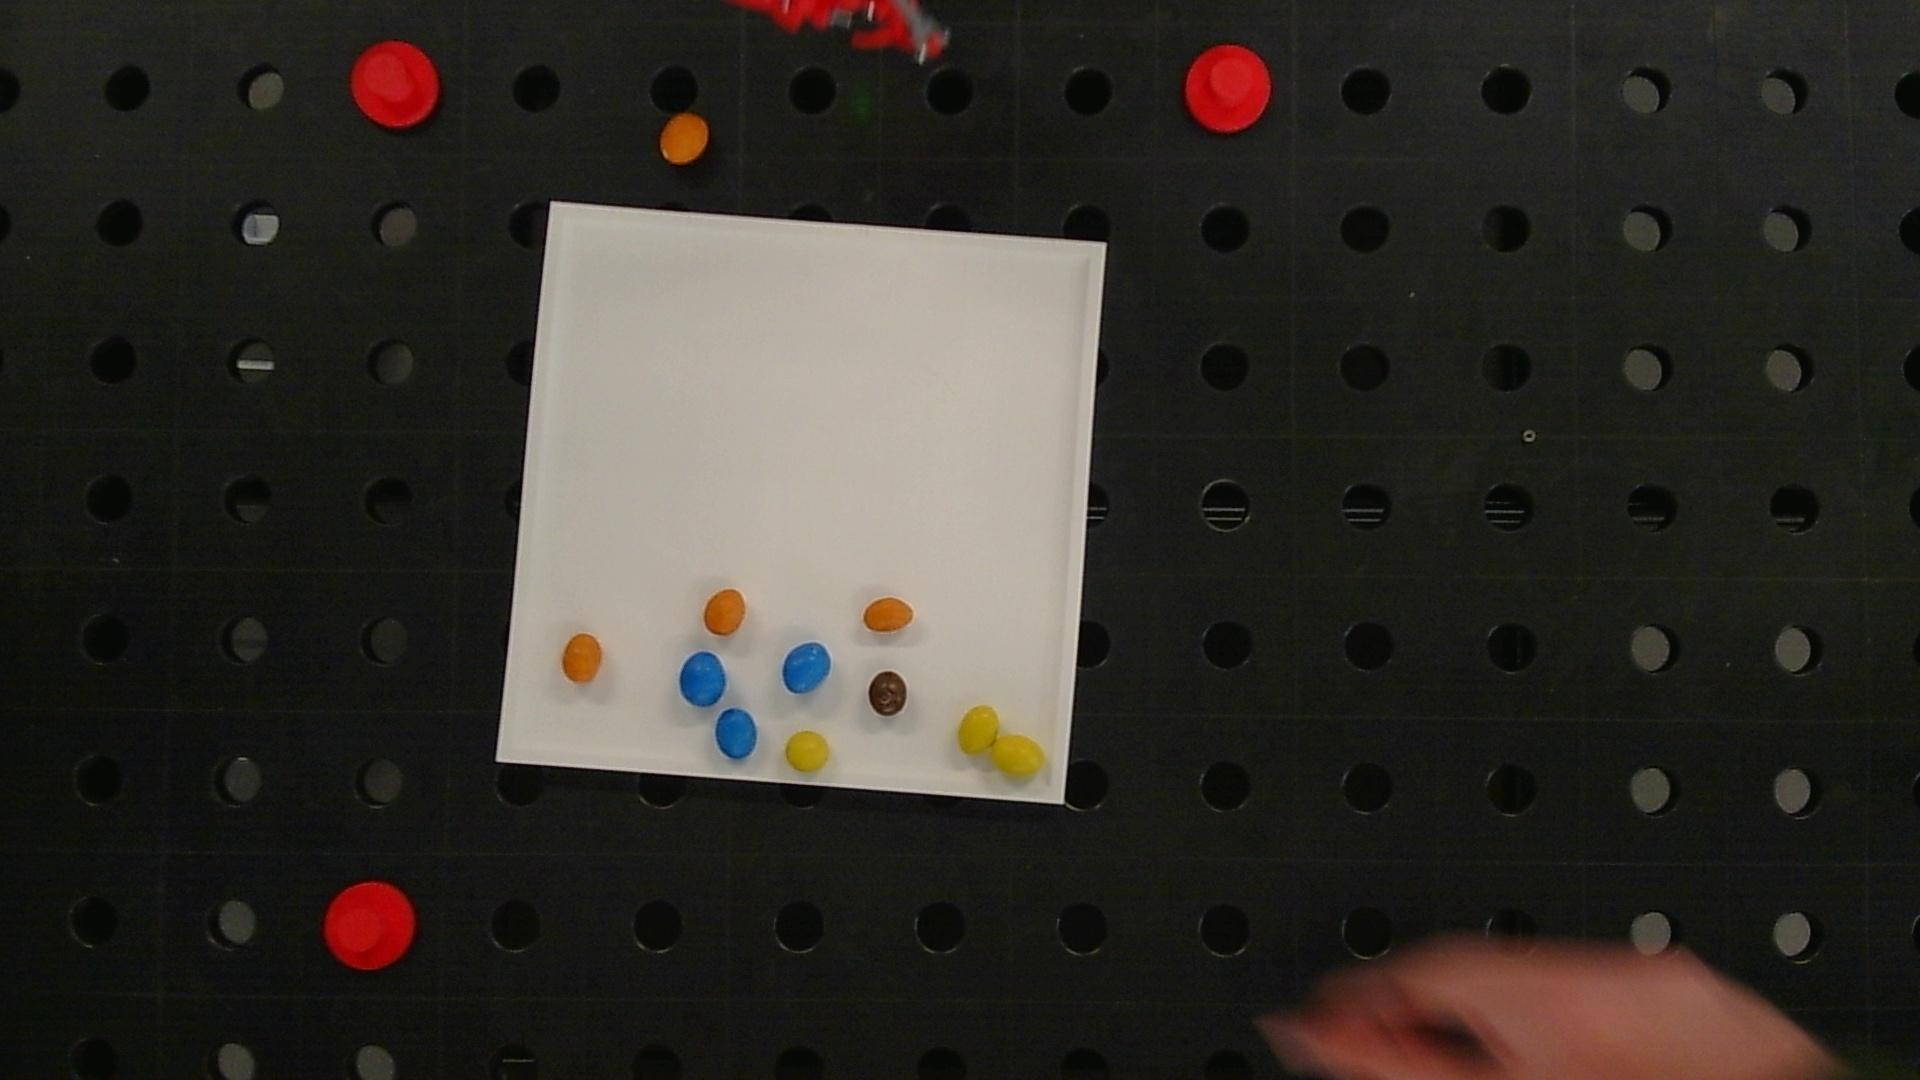blue: (679, 651, 725, 707), (783, 642, 831, 694), (715, 708, 757, 758)
brown: (868, 670, 907, 716)
orange: (661, 115, 708, 164), (562, 633, 601, 683), (704, 588, 745, 634), (862, 596, 914, 632)
yellow: (992, 735, 1046, 775), (957, 705, 1001, 754), (786, 731, 829, 771)
